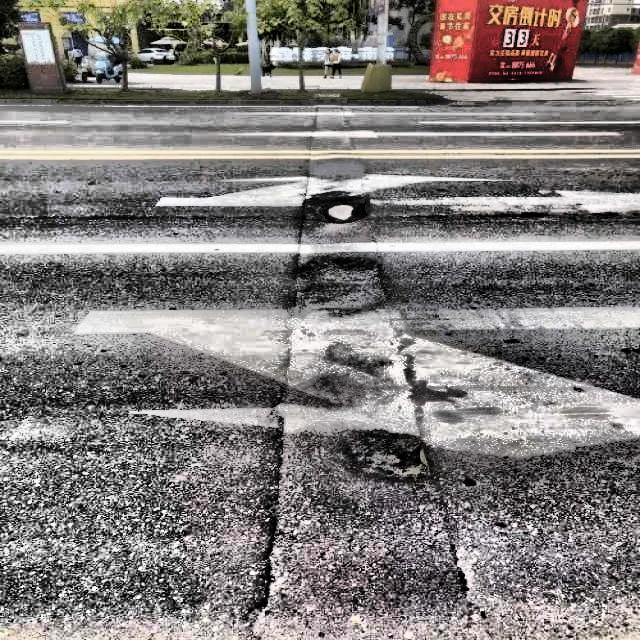buraco: (339, 426, 442, 484), (314, 193, 372, 224)
